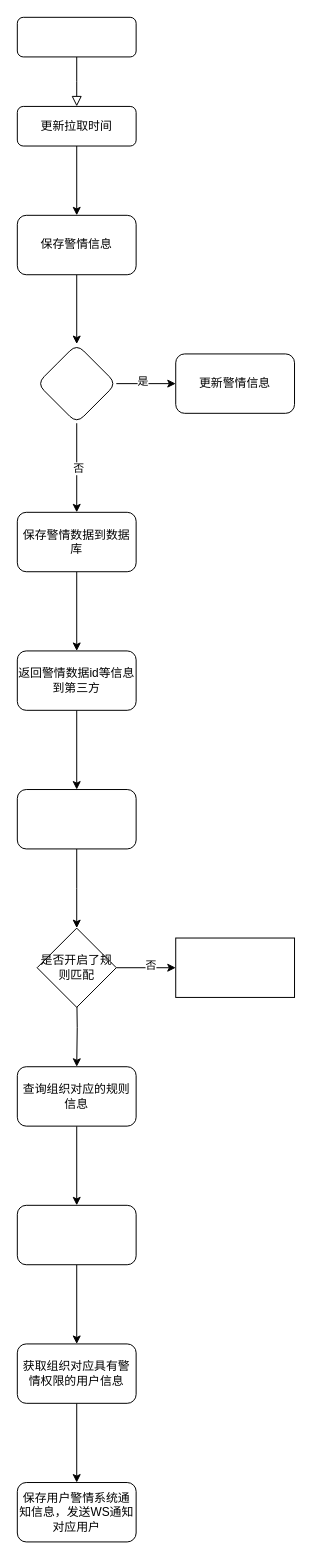
The diagram is 312 pixels wide and 1559 high, and some of its shapes have lost their labels. Each missing label, with the centre of its shape:
不进行匹配: (235,967)
保存对应组织-警情信息记录: (76,1234)
拉取第三方警情信息: (76,36)
是否已保存到数据库: (76,383)
规则匹配: (76,819)
